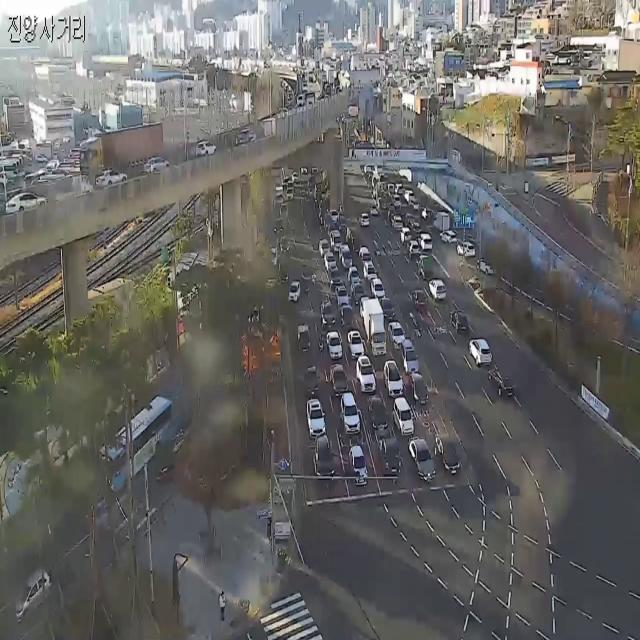bus: (318, 329, 325, 352)
car: (95, 385, 186, 499)
motorcycle: (408, 436, 436, 482), (434, 432, 460, 476), (314, 436, 336, 481), (368, 392, 390, 436), (340, 390, 361, 435), (382, 358, 404, 398), (379, 438, 402, 476), (356, 354, 376, 394), (393, 396, 414, 434), (409, 370, 430, 408), (306, 397, 326, 436), (349, 446, 368, 486), (402, 338, 419, 374), (330, 363, 349, 395), (347, 328, 365, 360), (325, 330, 344, 360), (320, 299, 336, 330), (388, 321, 405, 350), (296, 322, 310, 355), (306, 364, 318, 397), (341, 302, 354, 328), (372, 276, 385, 302), (328, 265, 341, 291), (382, 296, 396, 320), (288, 276, 300, 304), (339, 244, 353, 268), (336, 284, 349, 309), (351, 282, 365, 305), (362, 261, 378, 281), (358, 244, 372, 266), (330, 230, 342, 252), (324, 251, 336, 271), (319, 237, 330, 257), (328, 209, 339, 224), (360, 211, 370, 227)
truck: (364, 298, 387, 356)
